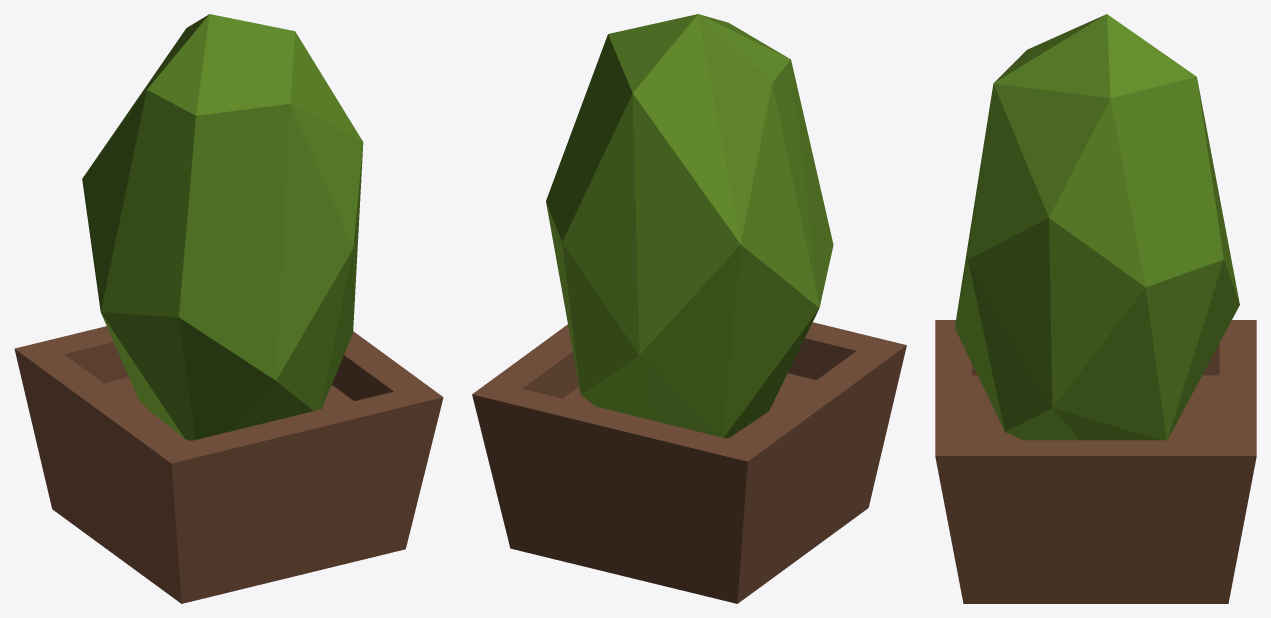
File: Natures_Pot Bush_big.fbx
3 renders of one model, left to right at view 1: azimuth 30°, elevation 25°; view 2: azimuth 150°, elevation 25°; view 3: azimuth 270°, elevation 25°, orthographic. The views are drawn at different scales.
Visible parts, largest first — view 1: Natures_Pot Bush_big; view 2: Natures_Pot Bush_big; view 3: Natures_Pot Bush_big.
Boxes of the visible parts, left/top/right/bottom form: Natures_Pot Bush_big: left=14, top=14, right=443, bottom=603; Natures_Pot Bush_big: left=472, top=14, right=906, bottom=603; Natures_Pot Bush_big: left=935, top=14, right=1256, bottom=603.
Bounding box in the file's own units: 72.83 × 132 × 72.83.
Materials: 1 (1 with a texture image).
